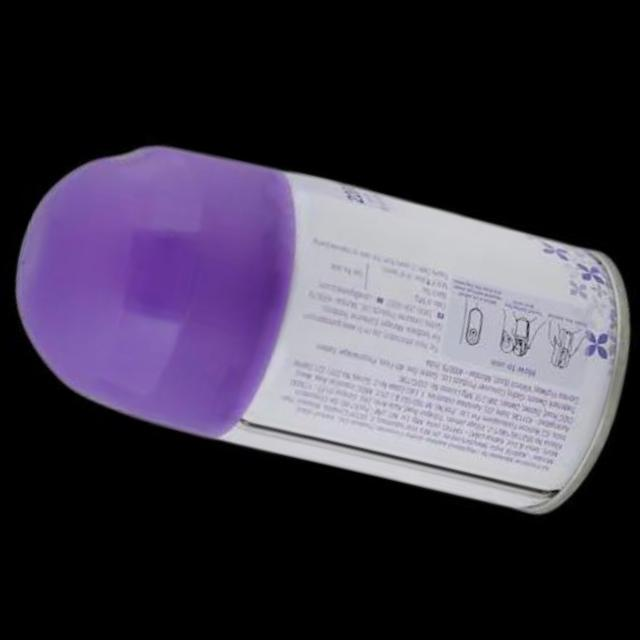Aer Matic Violet Valley Bloom Automatic Spray Diffuser Refill 225 ml: (0, 120, 640, 530)
